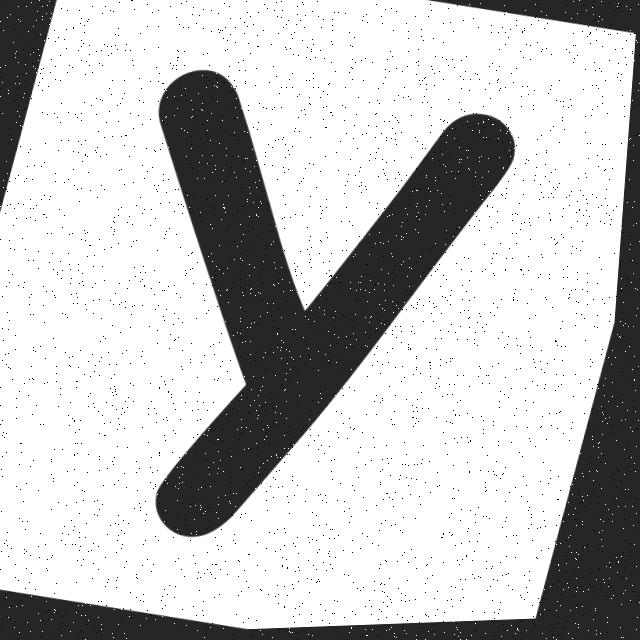Y: (160, 72, 517, 538)
